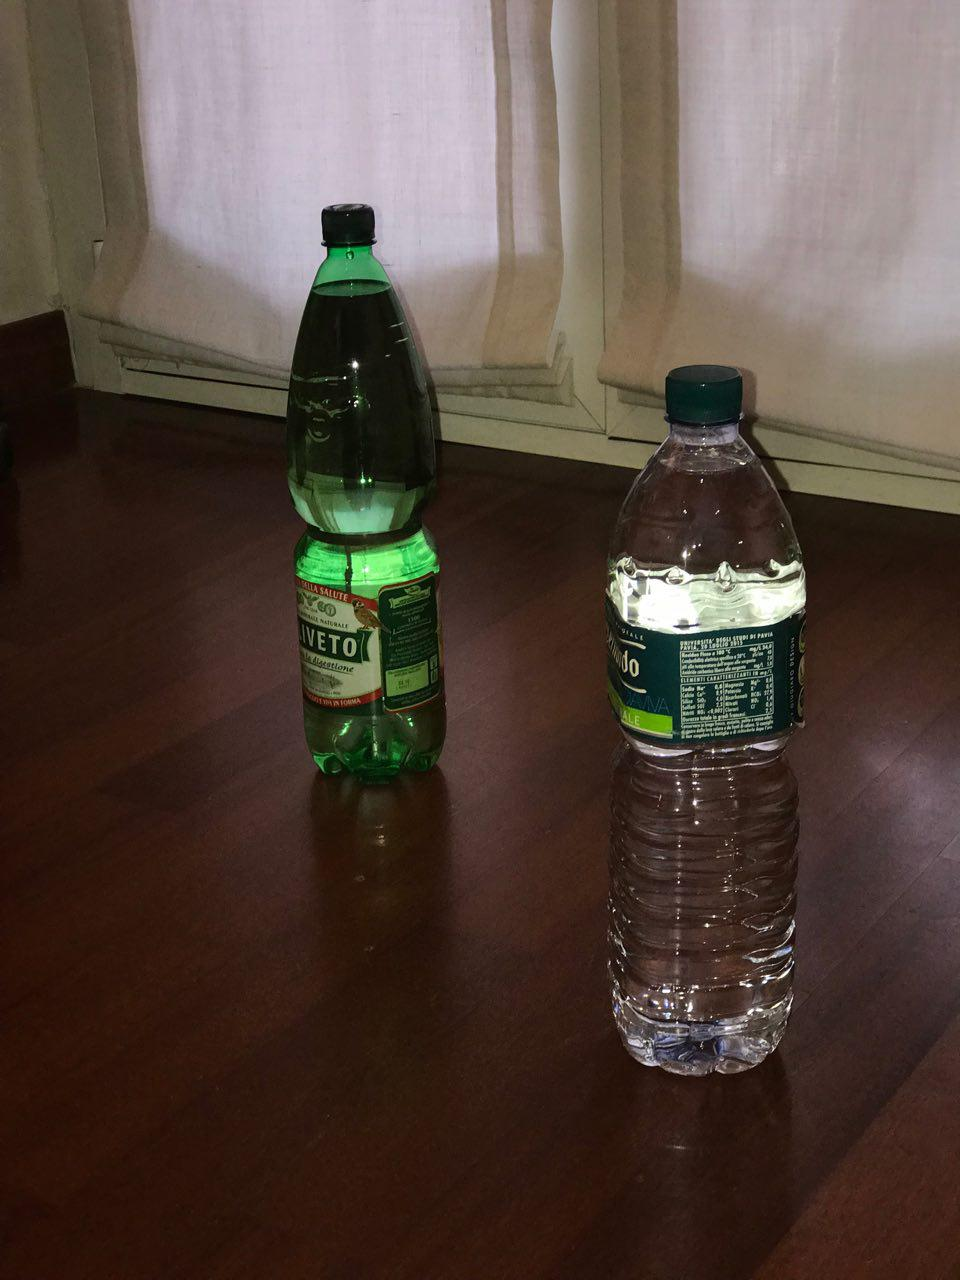san_bernardo: (603, 366, 808, 1077)
